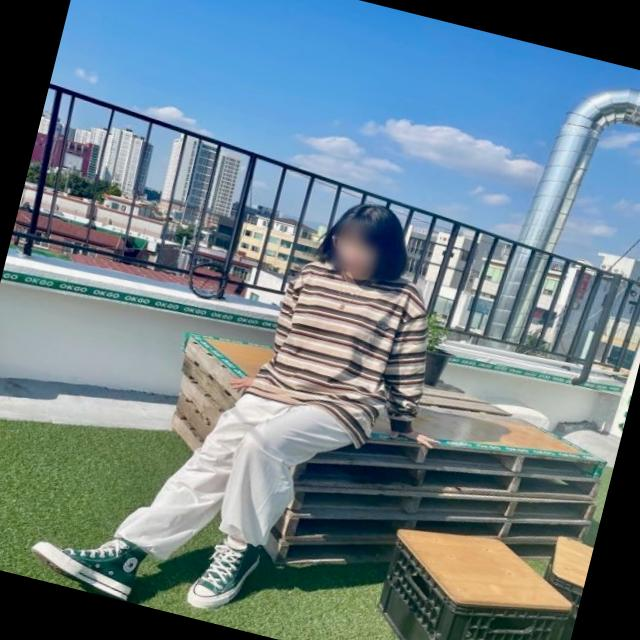longsleeve: (237, 248, 449, 462)
trainingpants: (110, 363, 362, 595)
